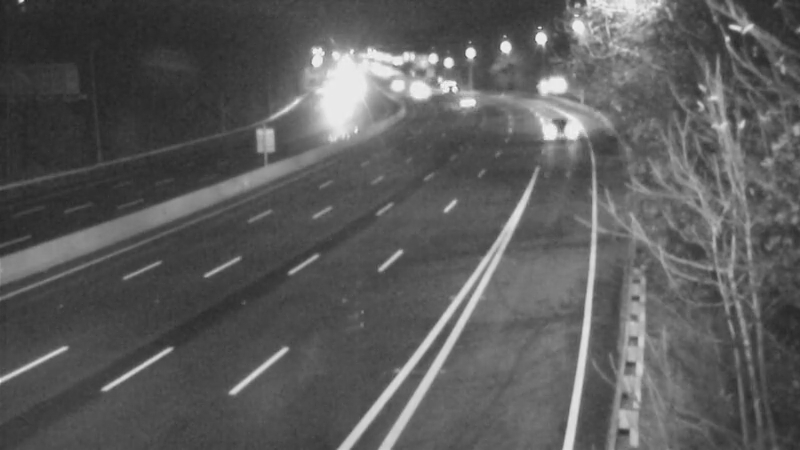vehicle: (422, 58, 472, 108), (373, 59, 423, 109), (392, 61, 442, 111), (399, 67, 449, 117), (436, 74, 486, 124), (536, 106, 586, 156), (308, 76, 358, 126)
